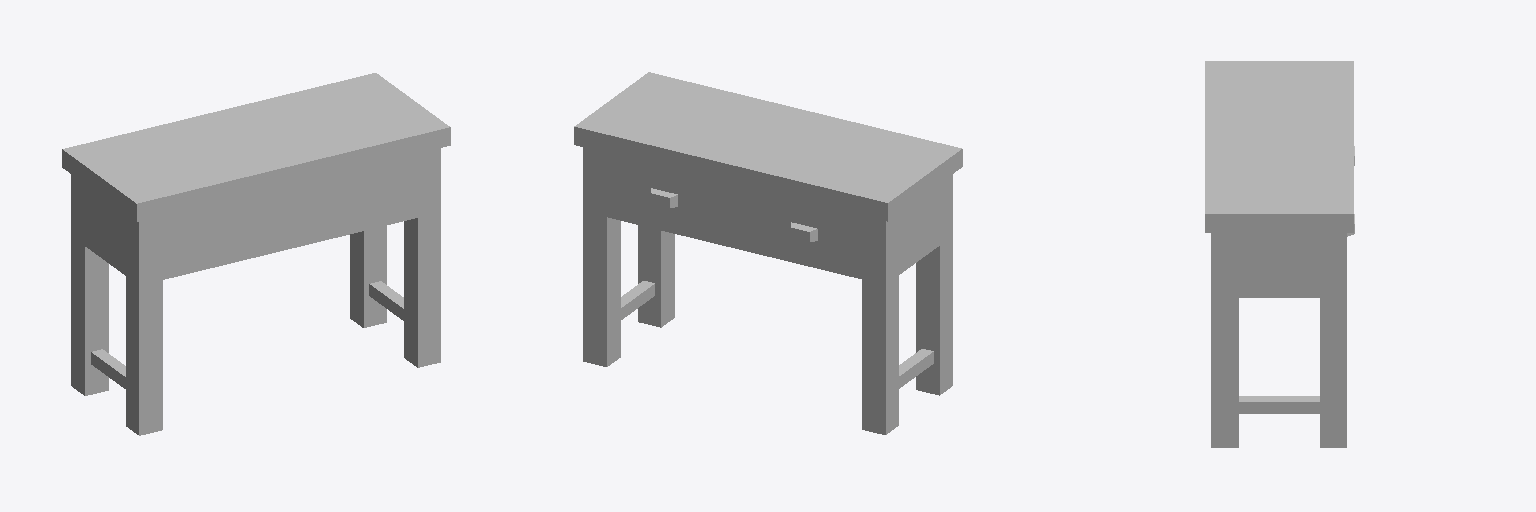
File: sideTableDrawers.obj
3 renders of one model, left to right at view 1: azimuth 30°, elevation 25°; view 2: azimuth 150°, elevation 25°; view 3: azimuth 270°, elevation 25°, orthographic.
Visible parts, largest first — view 1: sideTableDrawers; view 2: sideTableDrawers, drawerRight, drawerLeft; view 3: sideTableDrawers.
Part boxes in pixels (x1,y1,x2,y2): sideTableDrawers: (62, 73, 450, 435); sideTableDrawers: (574, 72, 962, 434); drawerRight: (746, 202, 861, 260); drawerLeft: (607, 168, 721, 226); sideTableDrawers: (1205, 61, 1353, 447).
Bounding box in the file's own units: 0.5345 × 0.3844 × 0.2223.